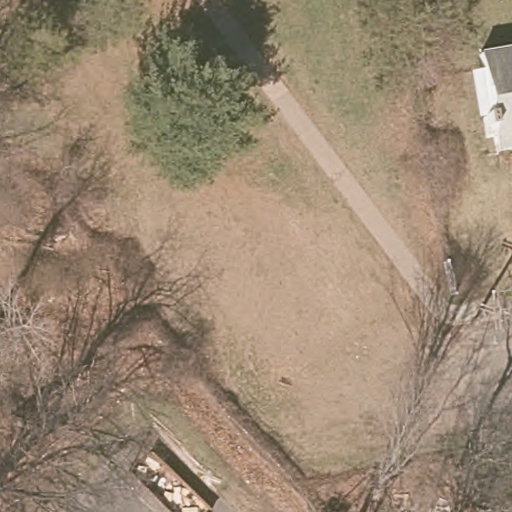DT: (476, 288, 512, 336)
